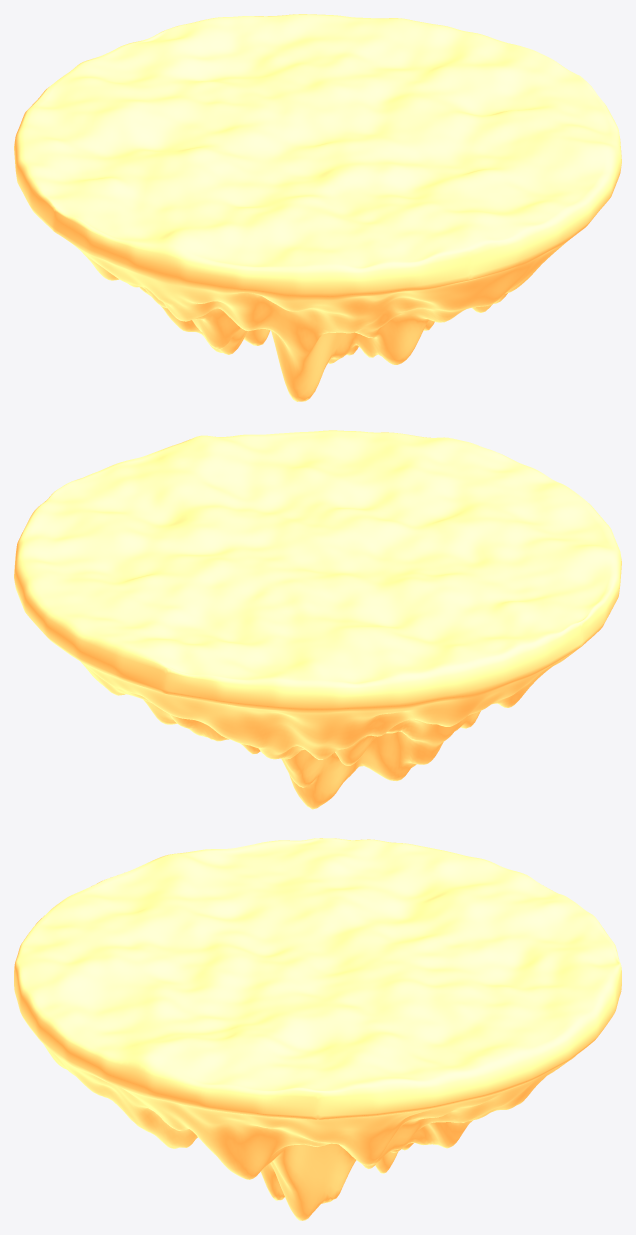
3 renders of one model, top to bottom at view 1: azimuth 30°, elevation 25°; view 2: azimuth 150°, elevation 25°; view 3: azimuth 270°, elevation 25°, orthographic.
Parts seen in each view (by area): view 1: Circle; view 2: Circle; view 3: Circle.
Part boxes in pixels (box(x1,y1,x2,y2)): Circle: box(14, 14, 621, 401); Circle: box(14, 430, 621, 809); Circle: box(14, 838, 621, 1220).
Size of the model in its own units: 18.59 by 7.81 by 18.59.
